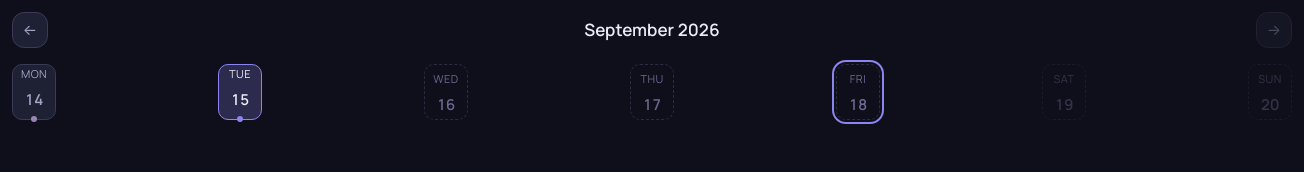
Test: arrows step a full week, not a single day
Click the button named "Previous week" at coordinates (30, 30), box left=12, top=12, right=48, bottom=48
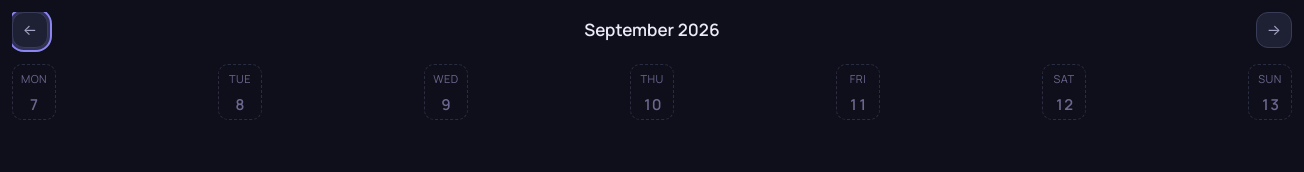
Expected: the button with aria-label "Monday, September 7 — no record" is shown, left=12, top=64, right=56, bottom=120
